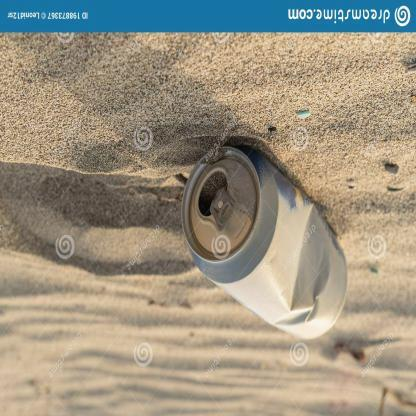Metal: (179, 137, 350, 345)
